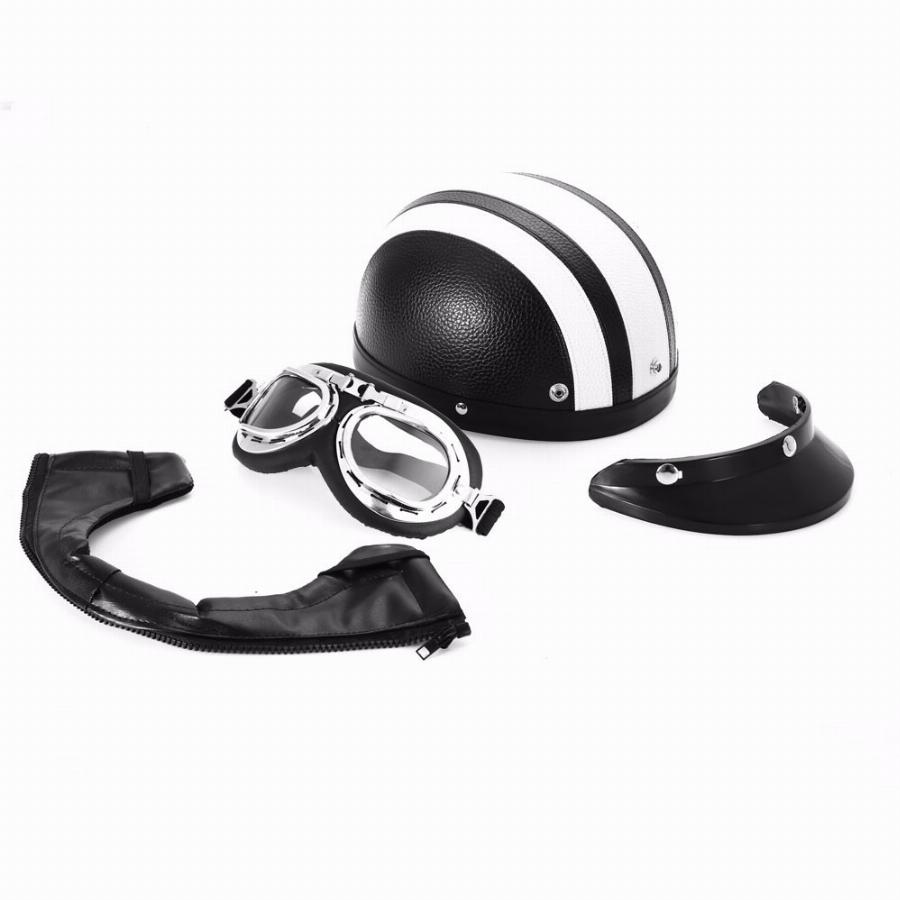with_helmet: (339, 164, 685, 446)
